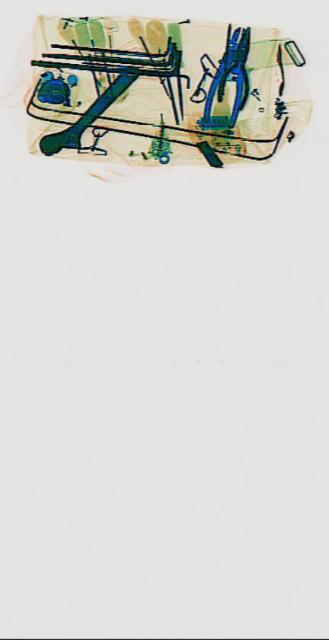Pliers: (202, 15, 253, 136), (214, 13, 260, 116)
Wrench: (36, 48, 142, 174)
